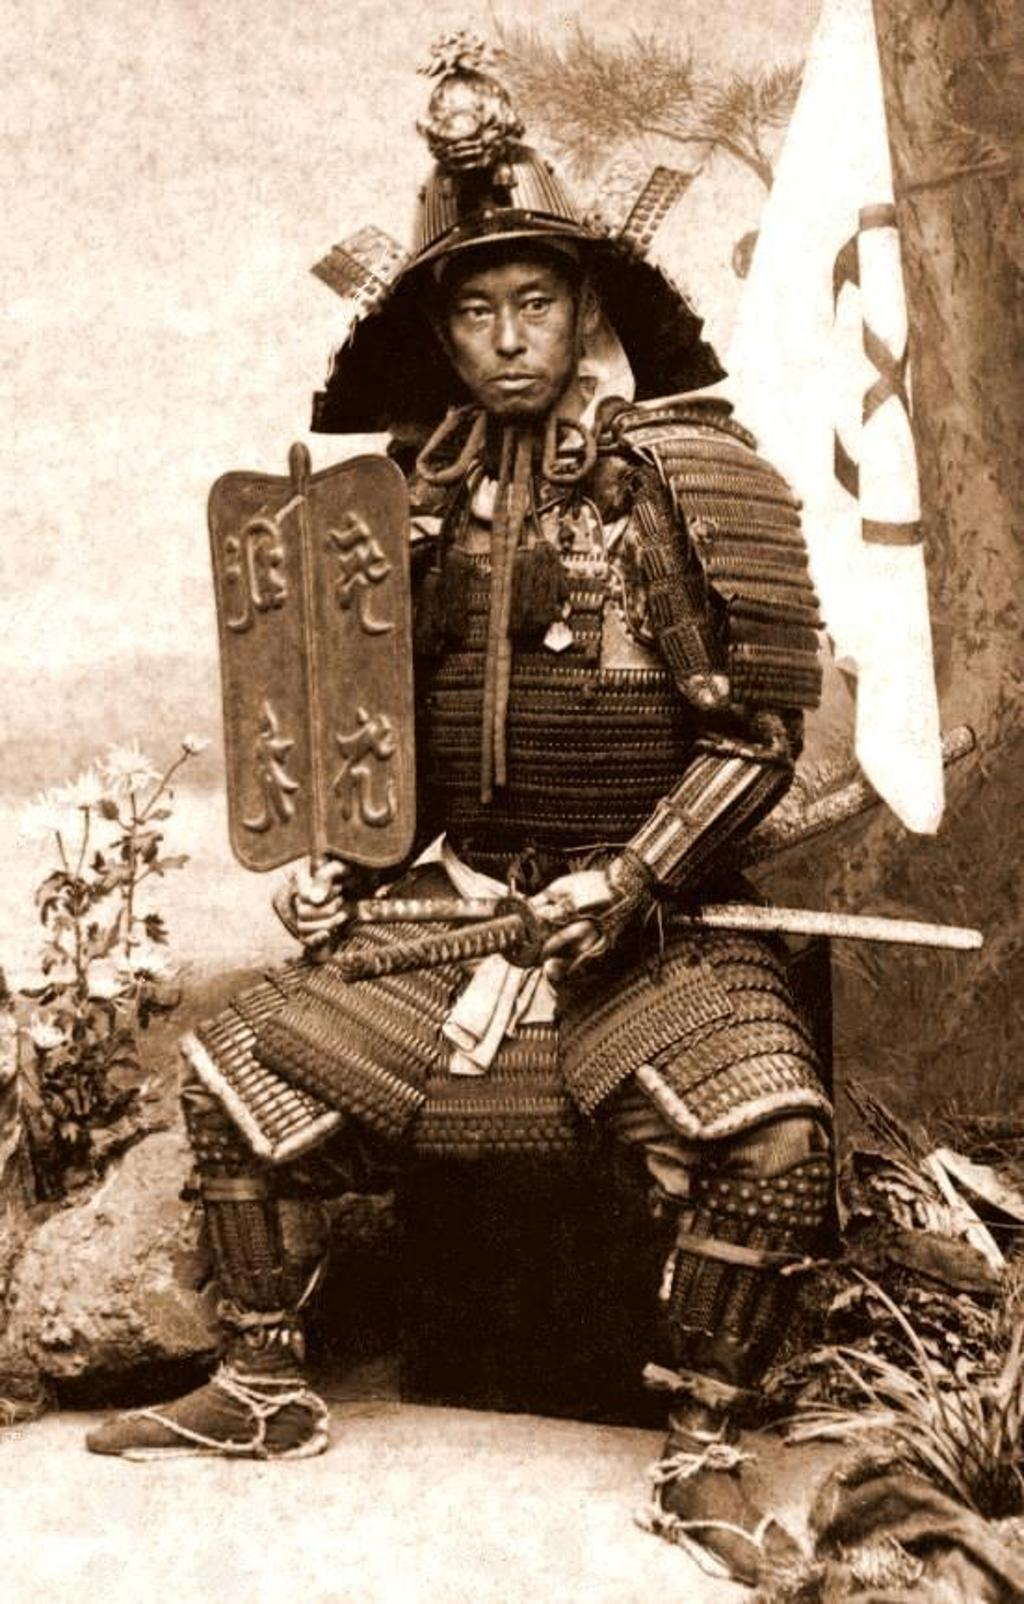face: (445, 257, 577, 410)
